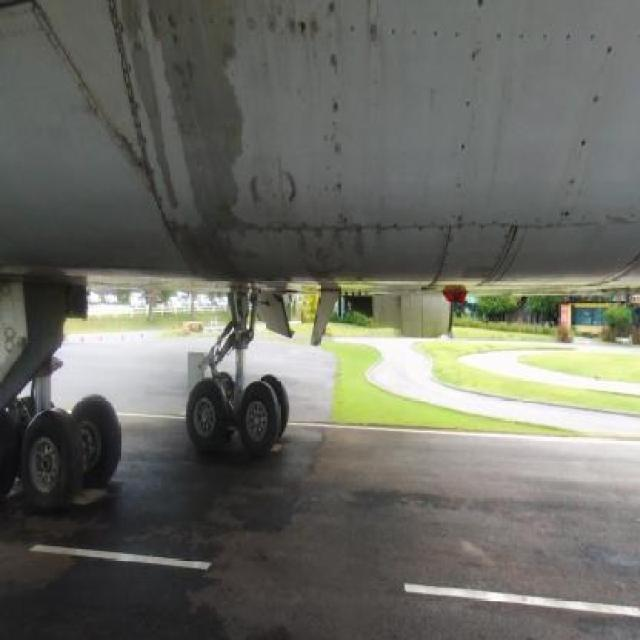Missing-Rivet: (454, 0, 486, 212), (554, 86, 600, 219), (488, 13, 604, 59), (198, 214, 368, 243), (326, 5, 348, 206), (514, 214, 635, 243), (372, 219, 511, 244), (348, 21, 464, 44)
Scartch: (107, 1, 270, 279), (272, 211, 371, 289), (242, 161, 307, 205), (253, 12, 324, 37), (370, 14, 384, 55)
